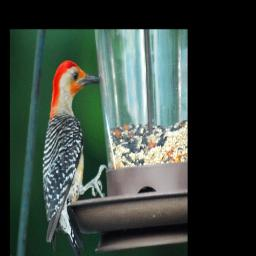Woodpecker: (40, 60, 107, 255)
